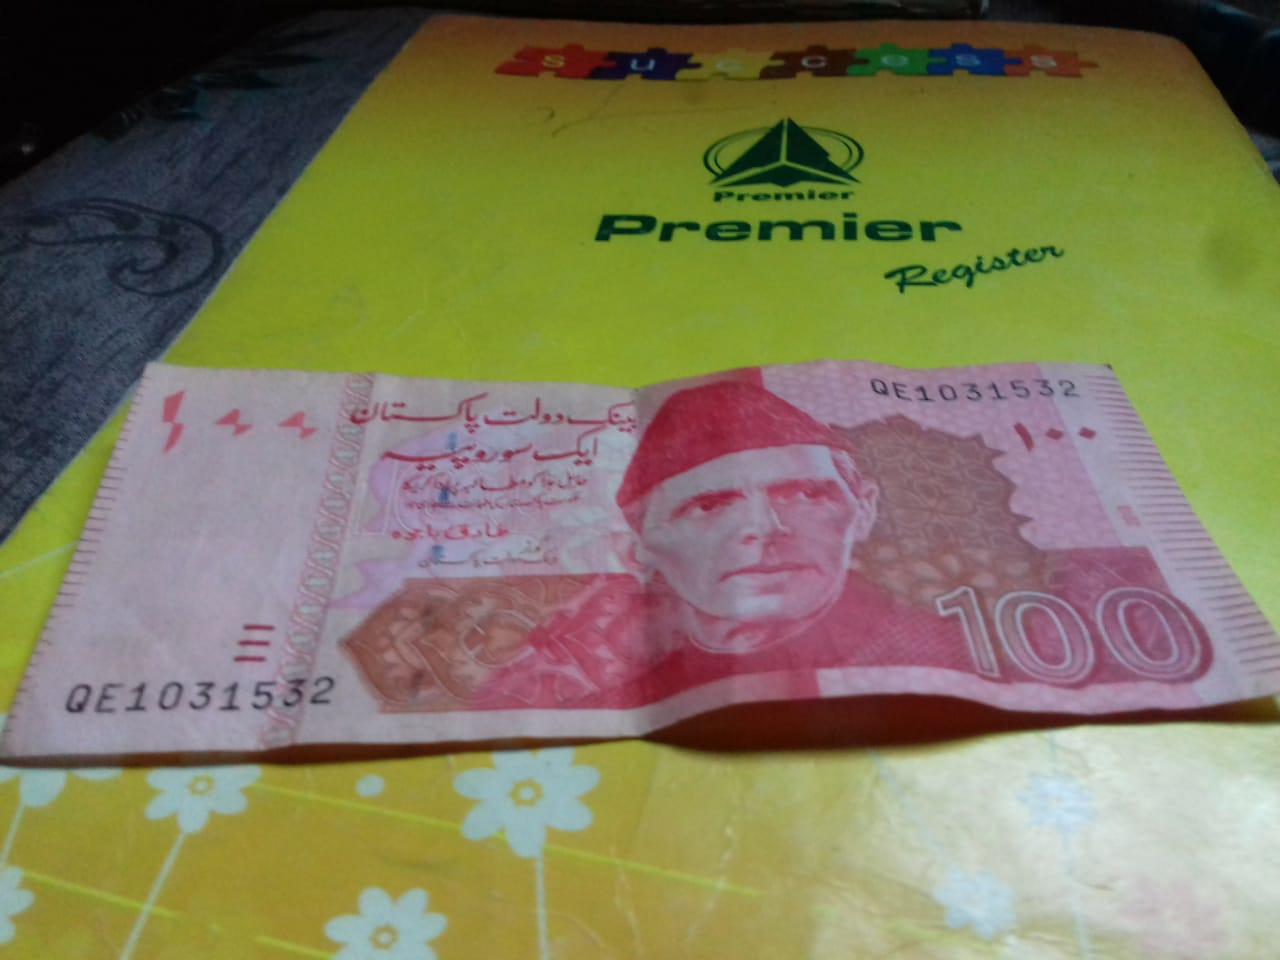100 rupee: (19, 335, 1275, 762)
